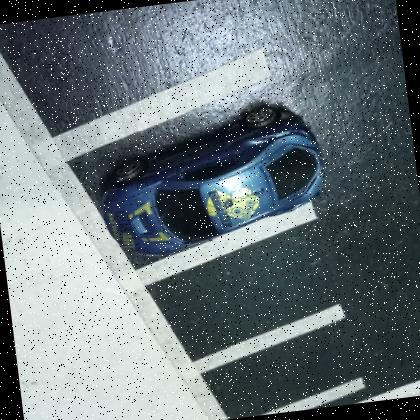Car: (97, 104, 324, 258)
